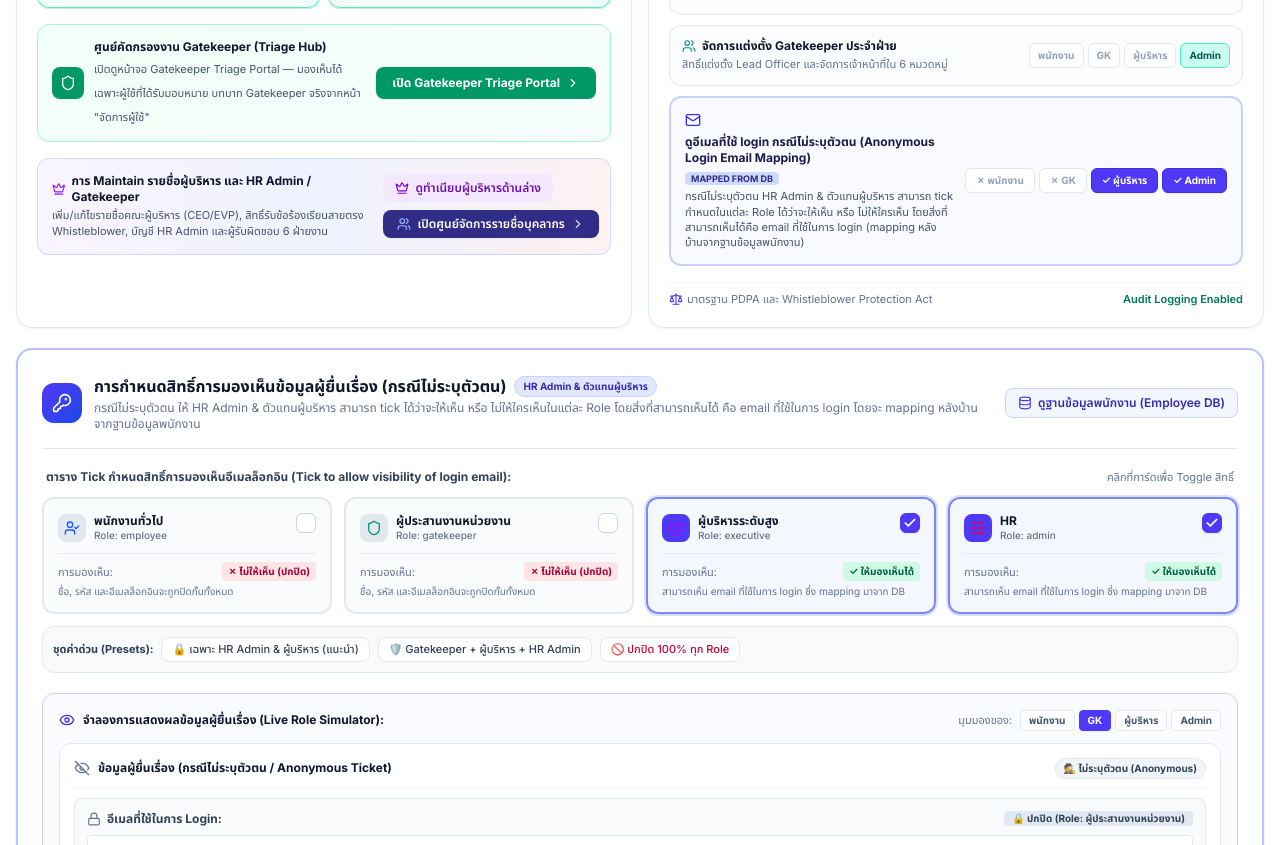
Test: RoleBasedAccessManagement › employee directory › shows a loading state while the first page is on its way
The image size is (1280, 845).
(page scrolled)
Click the button "ดูฐานข้อมูลพนักงาน (Employee DB)".
click(1122, 403)  # box [1005,388,1238,418]
(page scrolled)
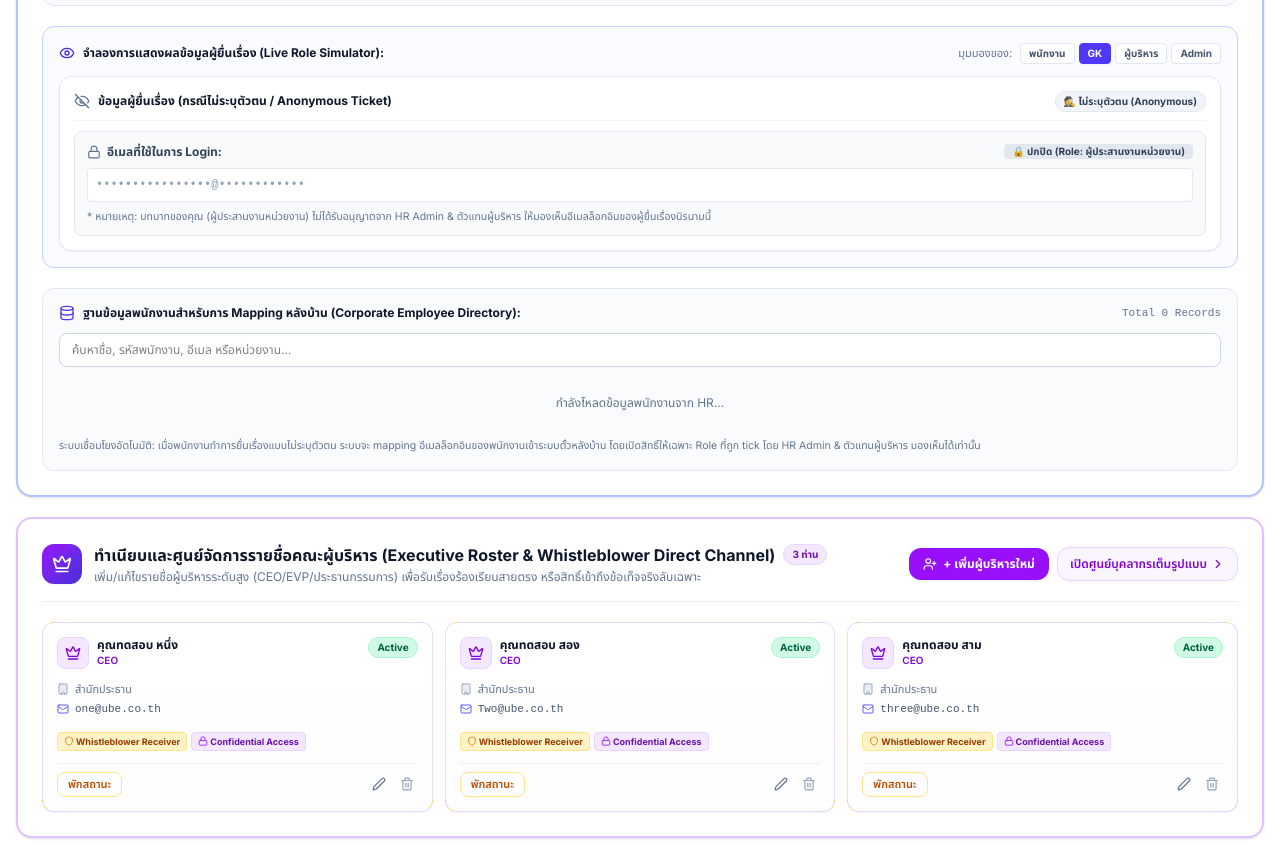
Expected: the text "กำลังโหลดข้อมูลพนักงานจาก HR..." is shown, [556,395,724,410]
